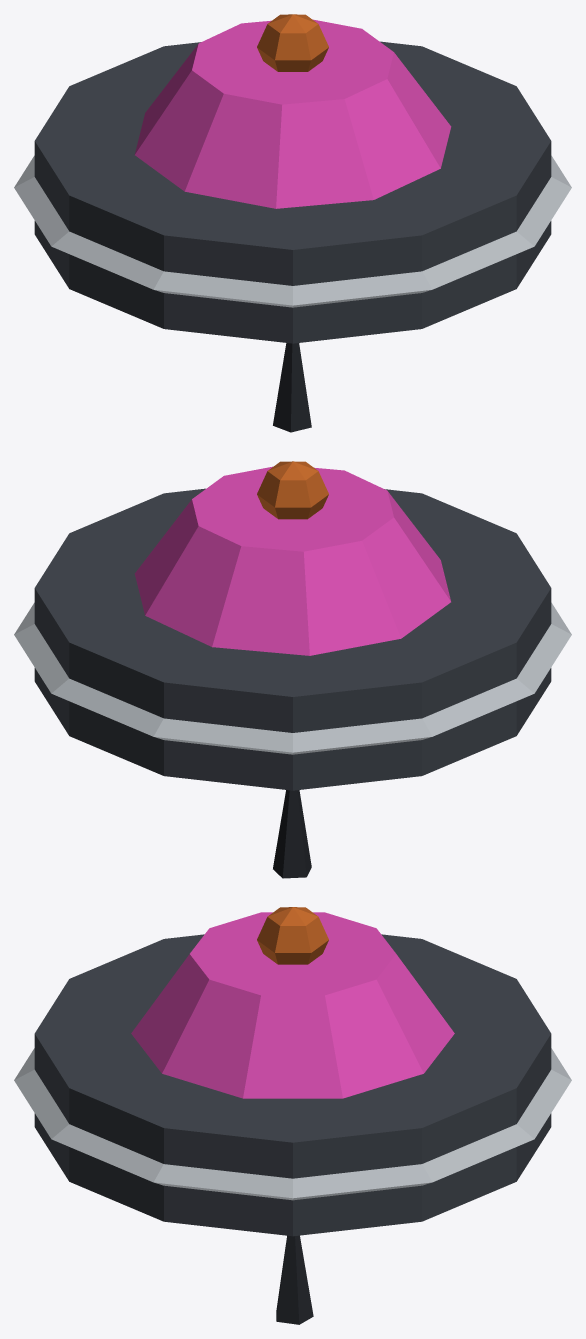
The model's file is mine-plasma.glb.
3 views of the same model, one above another, from view 1: azimuth 30°, elevation 25°; view 2: azimuth 150°, elevation 25°; view 3: azimuth 270°, elevation 25° (orthographic).
Visible parts, largest first — view 1: m; view 2: m; view 3: m.
Part boxes in pixels (<box>): m: <box>14,14,571,432</box>; m: <box>14,461,571,878</box>; m: <box>14,907,571,1324</box>.
Bounding box in the file's own units: 0.1 × 0.0611 × 0.1.
